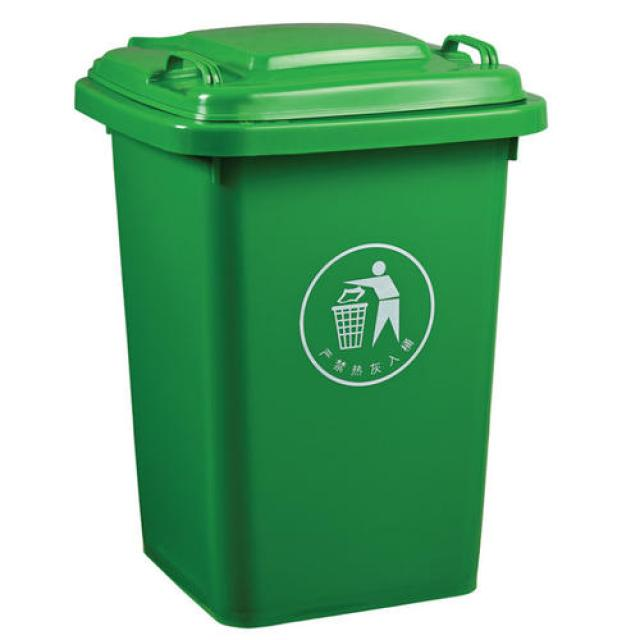garbage_bin: (73, 22, 547, 628)
